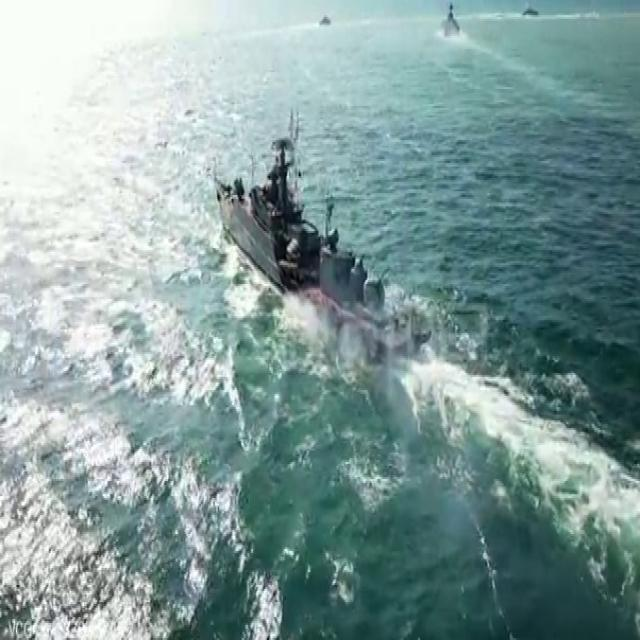navalvessels: (212, 122, 426, 362), (439, 0, 461, 36), (522, 3, 538, 19), (316, 12, 332, 26)
